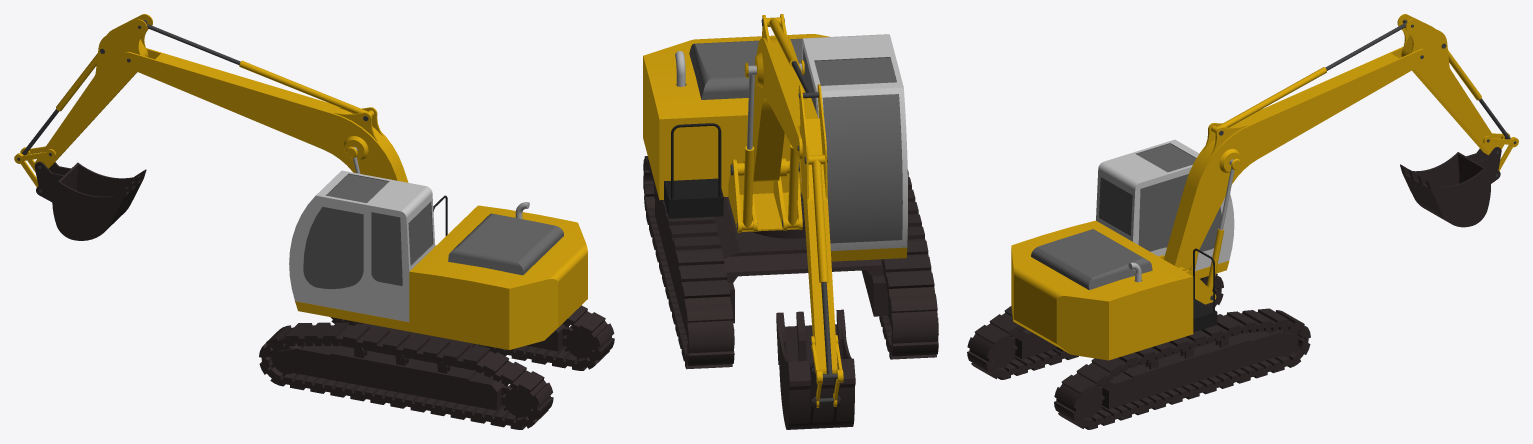
Rendered from assembly-43.glb.
The picture shows the model from 3 angles, left to right: view 1: azimuth 30°, elevation 25°; view 2: azimuth 150°, elevation 25°; view 3: azimuth 270°, elevation 25°; orthographic projection. The views are drawn at different scales.
Visible parts, largest first — view 1: excavator.stp-1; view 2: excavator.stp-1; view 3: excavator.stp-1.
Part boxes in pixels (x1=…): excavator.stp-1: x1=14, y1=14, x2=614, y2=429; excavator.stp-1: x1=643, y1=14, x2=938, y2=429; excavator.stp-1: x1=967, y1=14, x2=1518, y2=429.
Size of the model in its own units: 6.34 by 4.69 by 8.42.
